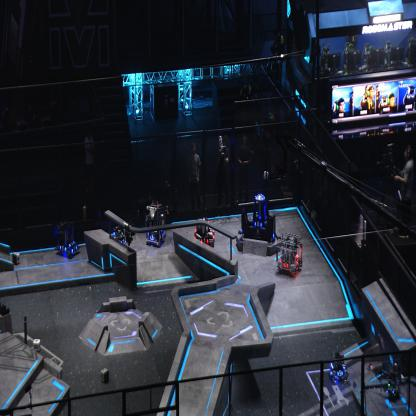car: (276, 230, 304, 277), (54, 219, 80, 257), (145, 200, 166, 247), (192, 215, 216, 251), (329, 350, 349, 382), (110, 223, 129, 251)
